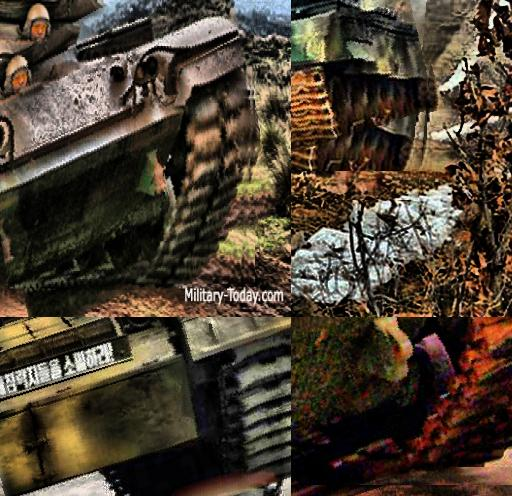tanks: (1, 18, 254, 289), (1, 318, 292, 496), (292, 318, 512, 481), (292, 1, 429, 154)
